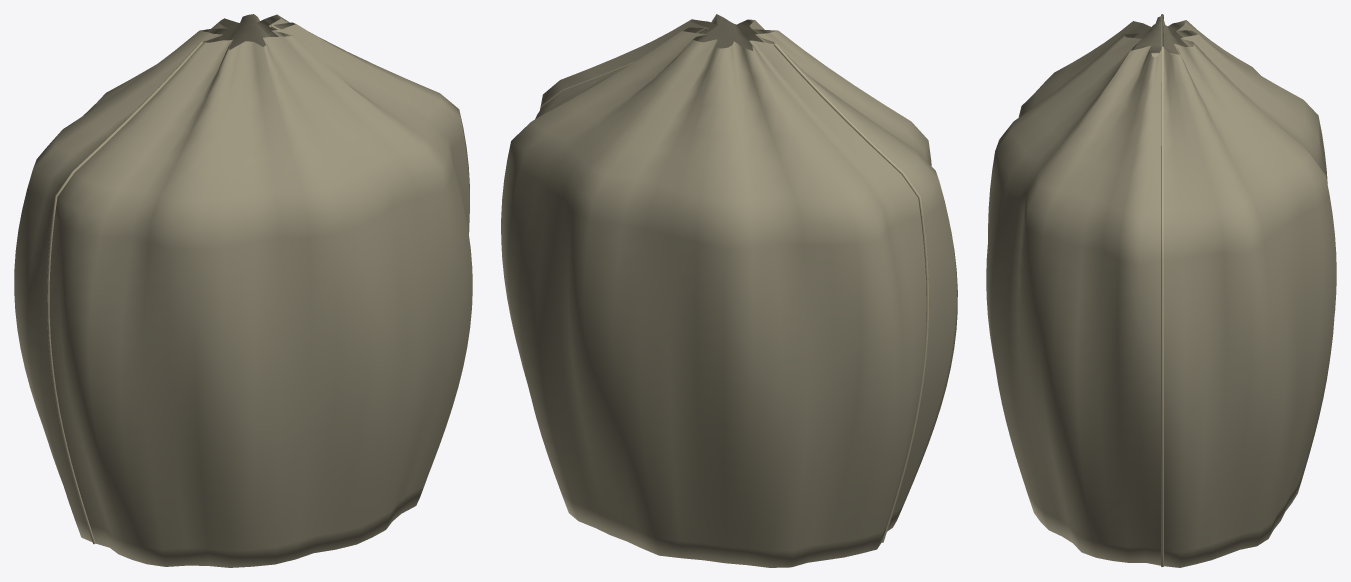
The model's file is ration_sack.glb.
The picture shows the model from 3 angles, left to right: view 1: azimuth 30°, elevation 25°; view 2: azimuth 150°, elevation 25°; view 3: azimuth 270°, elevation 25°; orthographic projection. The views are drawn at different scales.
Parts seen in each view (by area): view 1: Folded empty ration sack, Double sewn side seam.001; view 2: Folded empty ration sack, Double sewn side seam.001; view 3: Folded empty ration sack, Double sewn side seam.
Boxes of the visible parts, left/top/right/bottom form: Folded empty ration sack: left=14, top=14, right=472, bottom=567; Double sewn side seam.001: left=47, top=41, right=203, bottom=544; Folded empty ration sack: left=501, top=14, right=957, bottom=567; Double sewn side seam.001: left=774, top=43, right=929, bottom=542; Folded empty ration sack: left=986, top=15, right=1336, bottom=567; Double sewn side seam: left=1161, top=46, right=1163, bottom=566.
Bounding box in the file's own units: 0.4573 × 0.5019 × 0.348.
